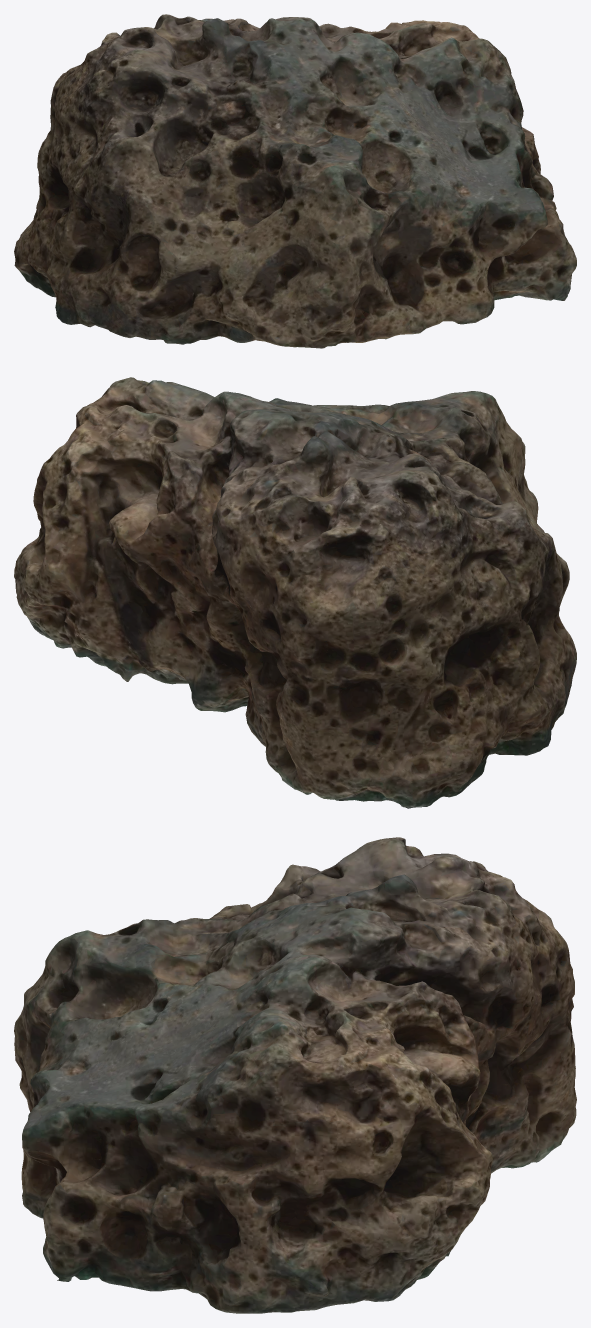
File: coral_stone.glb
3 renders of one model, top to bottom at view 1: azimuth 30°, elevation 25°; view 2: azimuth 150°, elevation 25°; view 3: azimuth 270°, elevation 25°, orthographic. The views are drawn at different scales.
Parts seen in each view (by area): view 1: Object_2; view 2: Object_2; view 3: Object_2.
Boxes of the visible parts, box(x1,y1,x2,y2) form: Object_2: box(14, 14, 576, 348); Object_2: box(14, 377, 576, 808); Object_2: box(14, 837, 576, 1313).
Bounding box in the file's own units: 31.49 × 16.62 × 27.58.
1 material, 1 textured.
